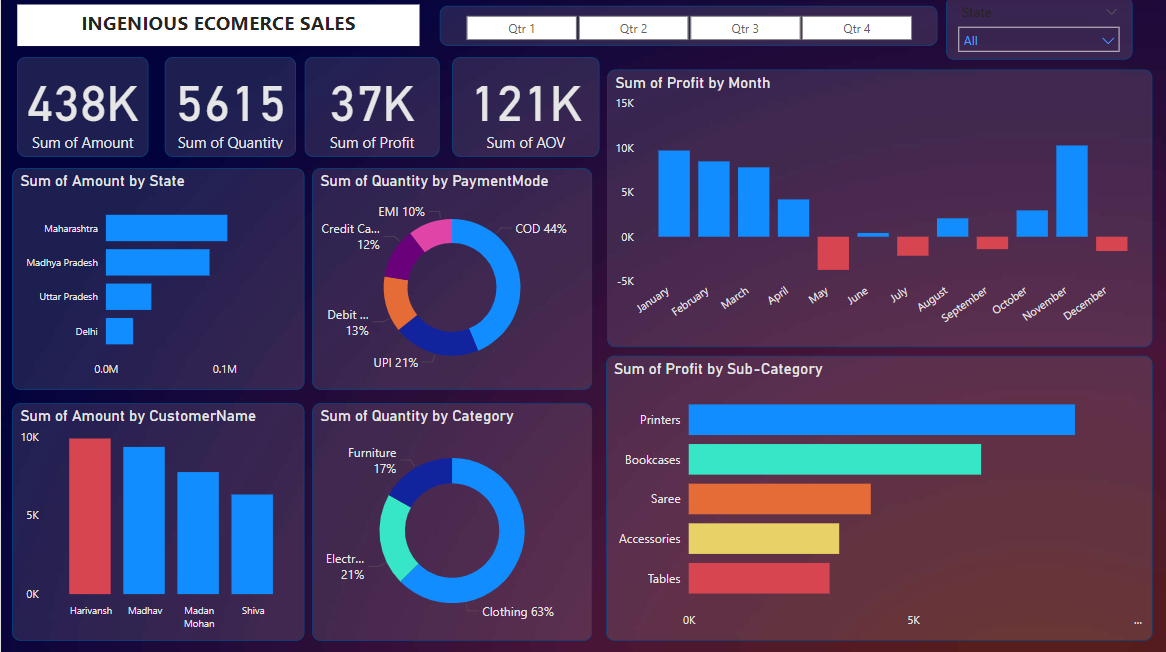

The page's visual inventory and layout, read from the dashboard file:
{"tool":"powerbi","page":{"name":"Page 1","canvas":[1280,720],"ordinal":0},"visuals":[{"type":"columnChart","fields":{"Category":["Orders.Order Date.Variation.Date Hierarchy.Month"],"Y":["Details.Profit"]},"box":[665.5,79.6,598.3,304.6],"z":0},{"type":"barChart","fields":{"Category":["Details.Sub-Category"],"Y":["Details.Profit"]},"box":[664.2,393.8,599.7,312.9],"z":1000},{"type":"donutChart","fields":{"Category":["Details.Category"],"Y":["Details.Quantity"]},"box":[341.7,446,307.4,260.7],"z":2000},{"type":"donutChart","fields":{"Y":["Details.Quantity"],"Category":["Details.PaymentMode"]},"box":[341.7,188,307.4,242.9],"z":3000},{"type":"card","fields":{"Values":["Details.Amount"]},"box":[17.8,65.9,144.1,109.8],"z":4000},{"type":"card","fields":{"Values":["Details.Quantity"]},"box":[179.8,65.9,144.1,109.8],"z":5000},{"type":"card","fields":{"Values":["Details.Profit"]},"box":[333.4,65.9,148.2,109.8],"z":6000},{"type":"card","fields":{"Values":["Details.AOV"]},"box":[495.4,65.9,161.9,109.8],"z":7000},{"type":"barChart","fields":{"Category":["Orders.State"],"Y":["Details.Amount"]},"box":[12.3,188,321.1,242.9],"z":8000},{"type":"columnChart","fields":{"Category":["Orders.CustomerName"],"Y":["Details.Amount"]},"box":[12.3,446,321.1,260.7],"z":9000},{"type":"slicer","fields":{"Values":["Orders.Order Date.Variation.Date Hierarchy.Quarter"]},"box":[481.6,9.6,546.1,43.9],"z":10000},{"type":"slicer","fields":{"Values":["Orders.State"]},"box":[1037.4,0,204.5,68.6],"z":11000},{"type":"textbox","box":[17.8,8.2,441.9,45.3],"z":12000}]}

Visuals, with their boxes in screenshot pixels (x1, y1, x2, y2), scaled from the page's 1280x720 canvas onto the 1166x652 screenshot:
columnChart - Orders.Order Date.Variation.Date Hierarchy.Month x Details.Profit: 606 72 1151 348
barChart - Details.Sub-Category x Details.Profit: 605 357 1151 640
donutChart - Details.Category x Details.Quantity: 311 404 591 640
donutChart - Details.Quantity x Details.PaymentMode: 311 170 591 390
card - Details.Amount: 16 60 147 159
card - Details.Quantity: 164 60 295 159
card - Details.Profit: 304 60 439 159
card - Details.AOV: 451 60 599 159
barChart - Orders.State x Details.Amount: 11 170 304 390
columnChart - Orders.CustomerName x Details.Amount: 11 404 304 640
slicer - Orders.Order Date.Variation.Date Hierarchy.Quarter: 439 9 936 48
slicer - Orders.State: 945 0 1131 62
textbox: 16 7 419 48
